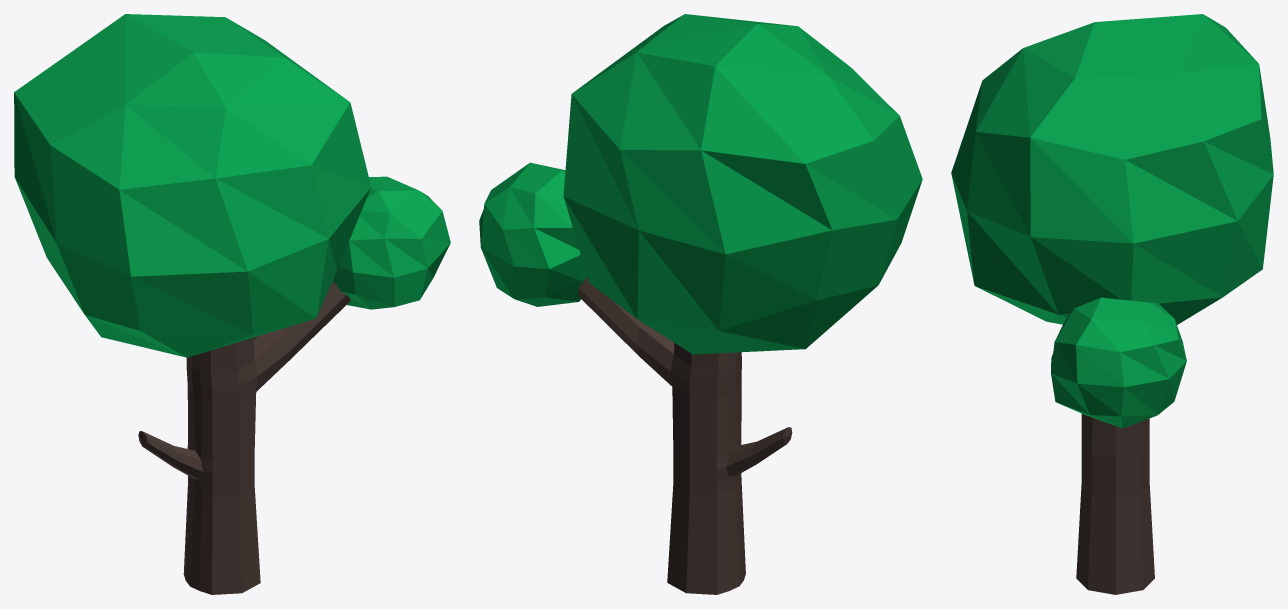
Rendered from tree1.fbx.
The picture shows the model from 3 angles, left to right: view 1: azimuth 30°, elevation 25°; view 2: azimuth 150°, elevation 25°; view 3: azimuth 270°, elevation 25°; orthographic projection. The views are drawn at different scales.
Parts seen in each view (by area): view 1: tree1; view 2: tree1; view 3: tree1.
Part boxes in pixels (<box>): tree1: <box>14,14,450,594</box>; tree1: <box>479,14,922,594</box>; tree1: <box>951,14,1273,594</box>.
Bounding box in the file's own units: 7.1 × 9.4 × 5.1.
